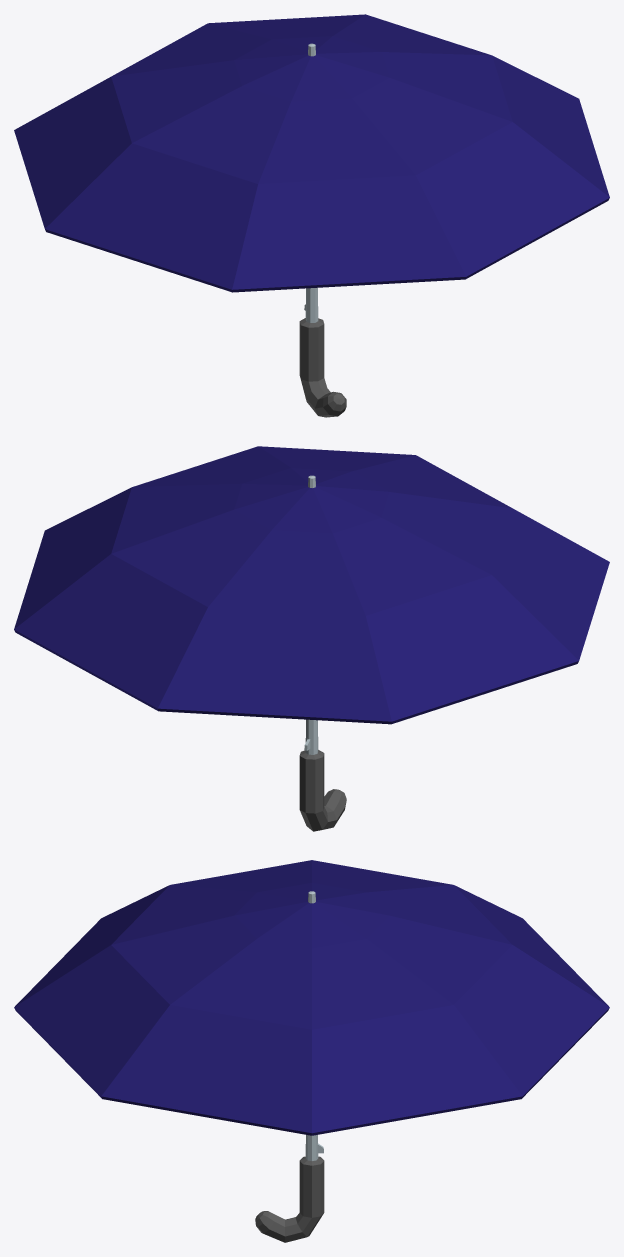
File: Umbrella_01.gltf
3 renders of one model, top to bottom at view 1: azimuth 30°, elevation 25°; view 2: azimuth 150°, elevation 25°; view 3: azimuth 270°, elevation 25°, orthographic. The views are drawn at different scales.
Parts seen in each view (by area): view 1: node-0; view 2: node-0; view 3: node-0.
Part boxes in pixels (x1=…): node-0: x1=14, y1=14, x2=609, y2=417; node-0: x1=14, y1=446, x2=609, y2=831; node-0: x1=14, y1=860, x2=609, y2=1242.
Size of the model in its own units: 15.27 by 9.9 by 15.27.
